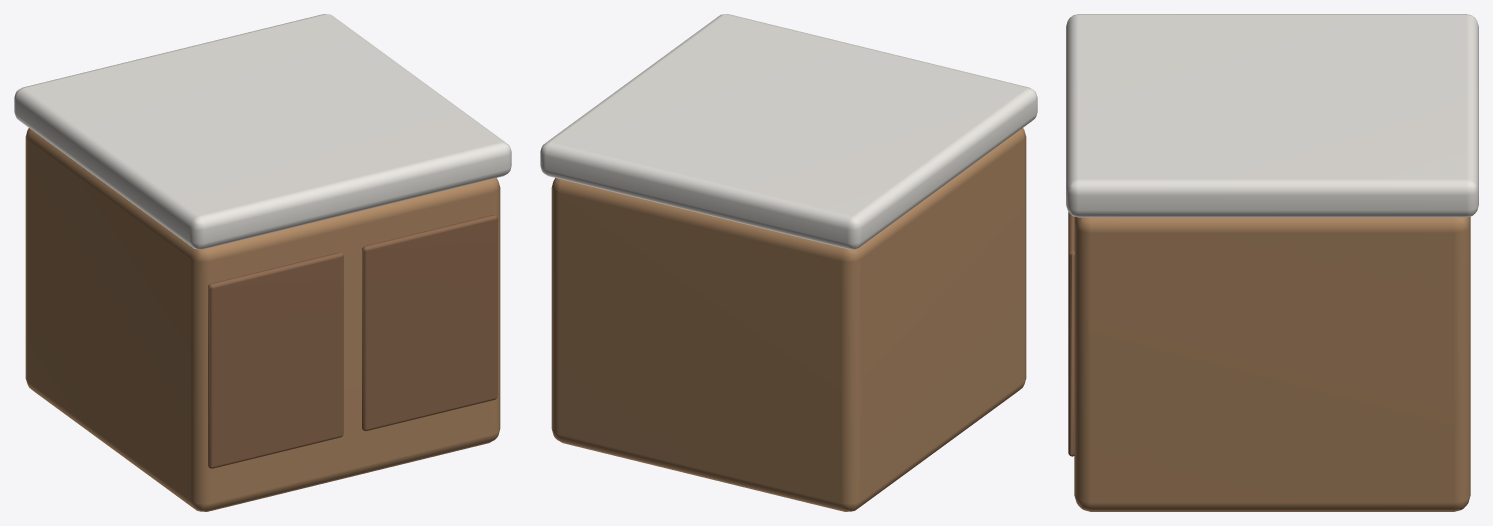
Rendered from counter.glb.
The picture shows the model from 3 angles, left to right: view 1: azimuth 30°, elevation 25°; view 2: azimuth 150°, elevation 25°; view 3: azimuth 270°, elevation 25°; orthographic projection. The views are drawn at different scales.
Parts seen in each view (by area): view 1: cabinet, top, door-0.24, door0.24; view 2: cabinet, top; view 3: cabinet, top, door0.24.
Part boxes in pixels (x1=…): cabinet: x1=25, y1=128, x2=500, y2=511; top: x1=14, y1=14, x2=511, y2=249; door-0.24: x1=208, y1=252, x2=343, y2=468; door0.24: x1=362, y1=215, x2=497, y2=431; cabinet: x1=551, y1=128, x2=1026, y2=511; top: x1=540, y1=14, x2=1037, y2=249; cabinet: x1=1074, y1=216, x2=1470, y2=511; top: x1=1066, y1=14, x2=1478, y2=217; door0.24: x1=1068, y1=212, x2=1074, y2=456.
Size of the model in its own units: 1 by 0.9 by 1.
